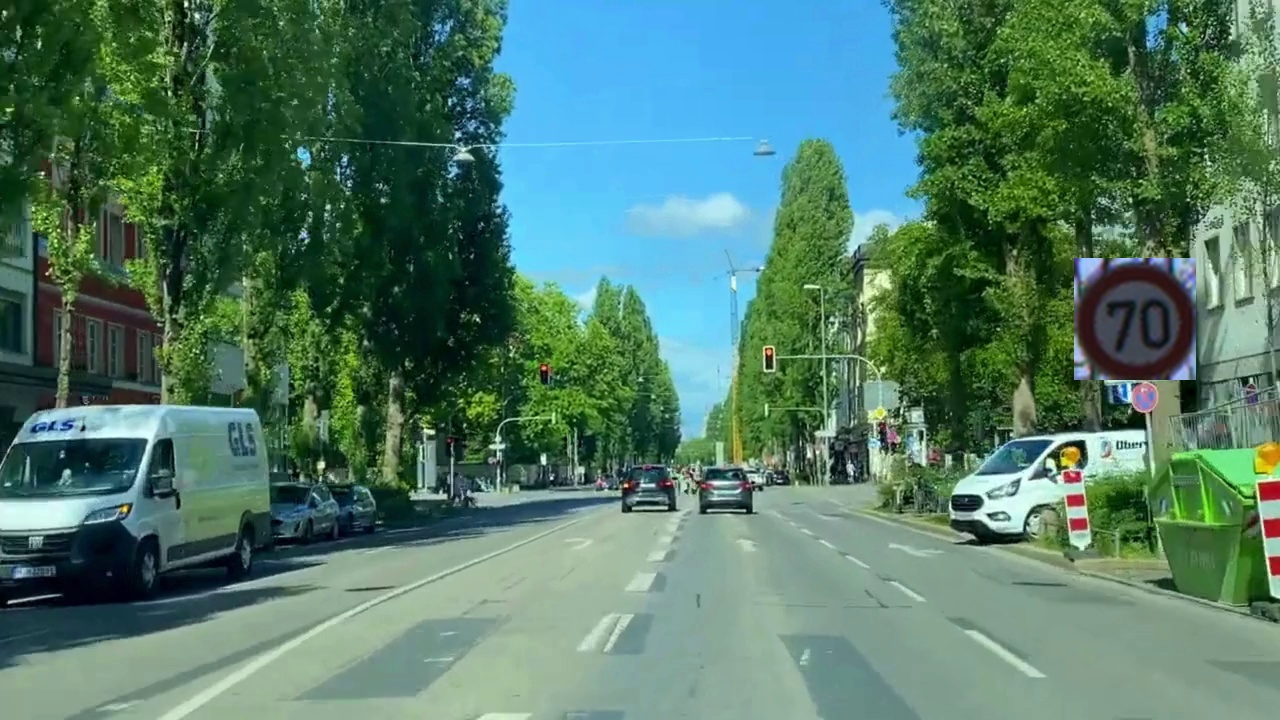Speed 70: (1074, 258, 1196, 380)
